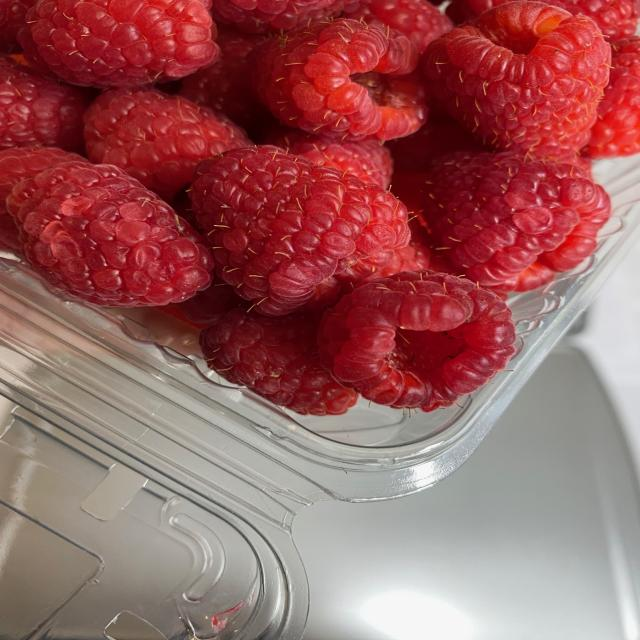raspberries: (26, 0, 629, 408)
